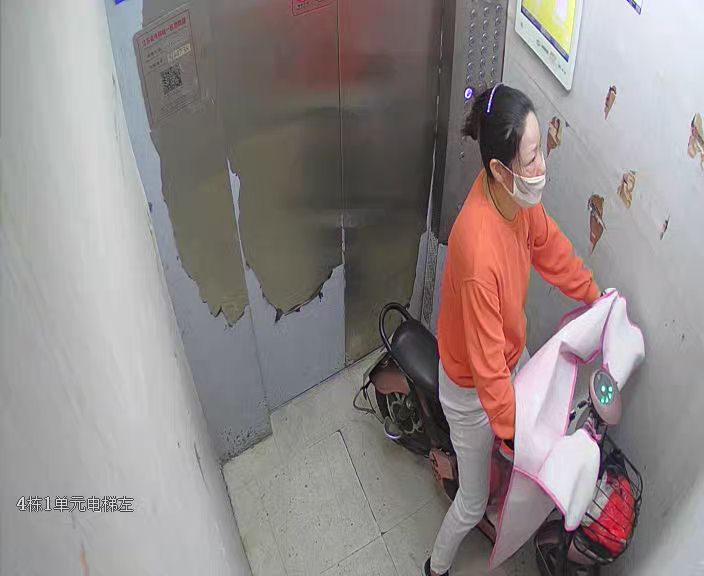Electric-bicycle: (373, 296, 639, 561)
